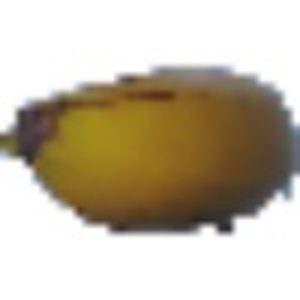banana: (5, 55, 295, 233)
